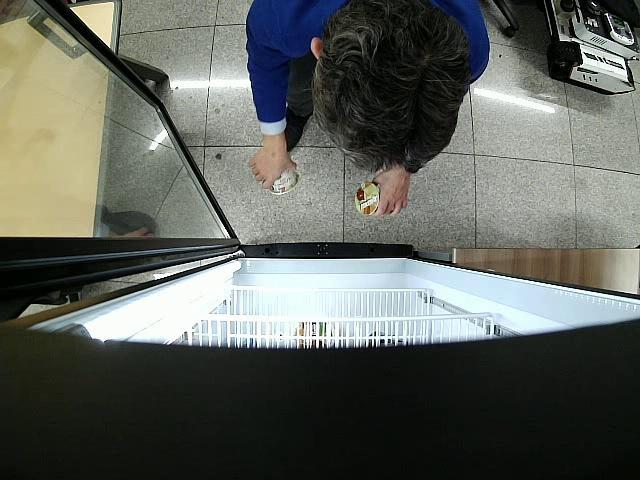04_chapagetti_S: (356, 182, 380, 216), (272, 168, 300, 196)
